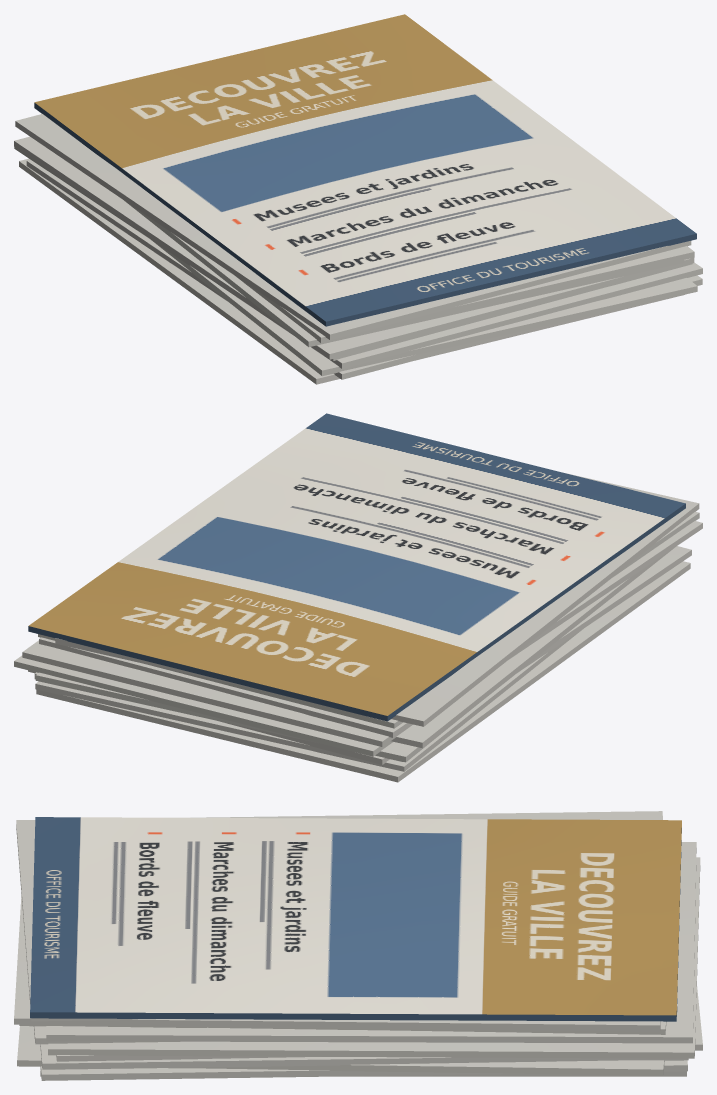
File: pile_prospectus.glb
3 renders of one model, top to bottom at view 1: azimuth 30°, elevation 25°; view 2: azimuth 150°, elevation 25°; view 3: azimuth 270°, elevation 25°, orthographic. The views are drawn at different scales.
Visible parts, largest first — view 1: PRO_Dessus, PRO_Papier_Journal; view 2: PRO_Dessus, PRO_Papier_Journal; view 3: PRO_Dessus, PRO_Papier_Journal.
Part boxes in pixels (x1,y1,x2,y2): PRO_Dessus: [34, 14, 696, 326]; PRO_Papier_Journal: [14, 114, 702, 384]; PRO_Dessus: [28, 413, 685, 721]; PRO_Papier_Journal: [14, 473, 702, 782]; PRO_Dessus: [30, 817, 681, 1021]; PRO_Papier_Journal: [14, 811, 702, 1080].
Bounding box in the file's own units: 0.164 × 0.0269 × 0.2238.
Materials: 2 (1 with a texture image).
